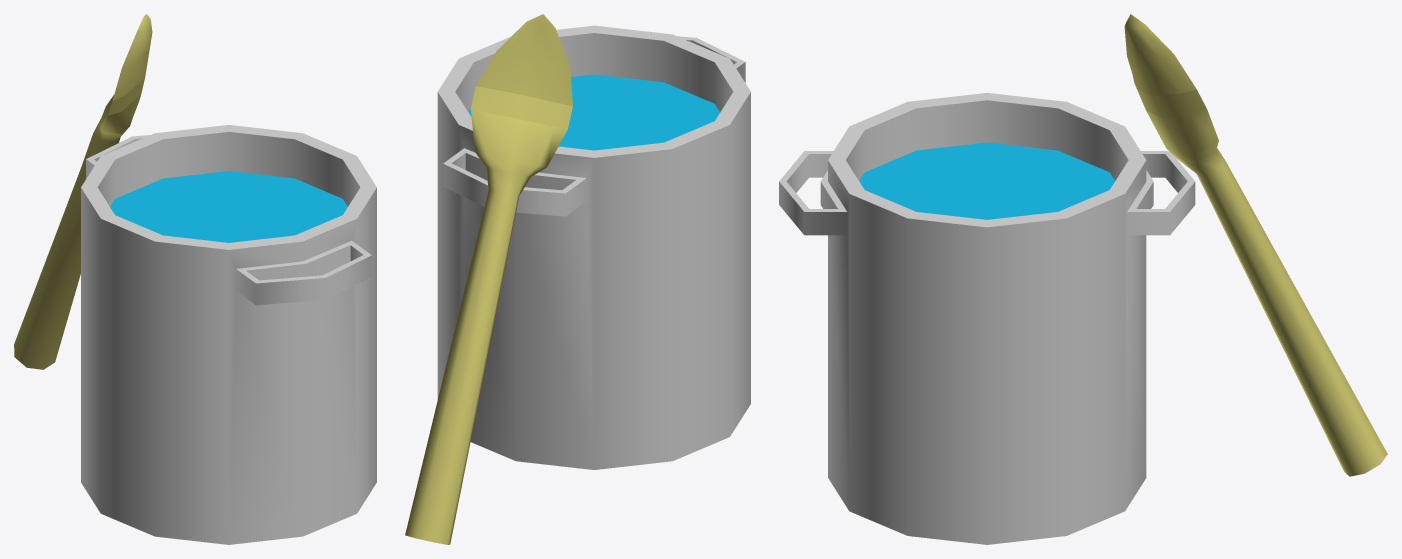
Rendered from pot and spoon.fbx.
The picture shows the model from 3 angles, left to right: view 1: azimuth 30°, elevation 25°; view 2: azimuth 150°, elevation 25°; view 3: azimuth 270°, elevation 25°; orthographic projection. The views are drawn at different scales.
Parts seen in each view (by area): view 1: Pot, Hot_Water, Spoon; view 2: Pot, Spoon, Hot_Water; view 3: Pot, Spoon, Hot_Water.
Boxes of the visible parts, box(x1,y1,x2,y2) form: Pot: box(81, 125, 376, 544); Hot_Water: box(110, 171, 347, 242); Spoon: box(14, 14, 152, 369); Pot: box(437, 25, 750, 469); Spoon: box(405, 14, 572, 544); Hot_Water: box(468, 74, 719, 150); Pot: box(779, 93, 1195, 544); Spoon: box(1124, 14, 1387, 476); Hot_Water: box(859, 142, 1114, 219).
Size of the model in its own units: 241 by 382 by 460.
